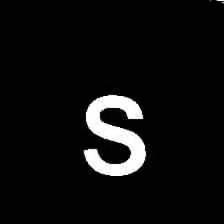LTR_S: (80, 88, 148, 179)
